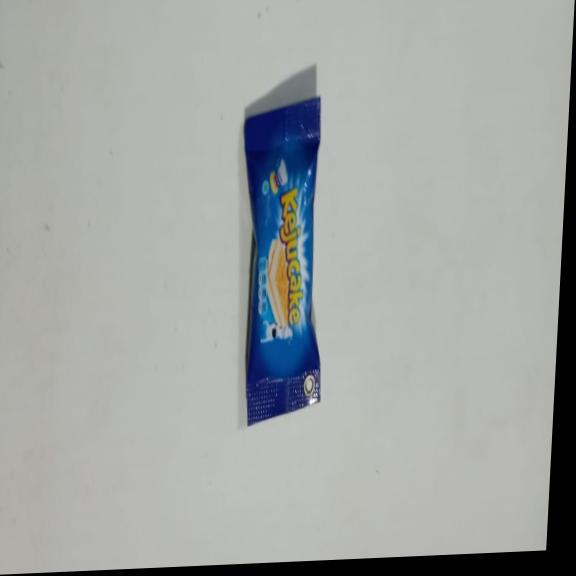Plastik: (226, 95, 339, 431)
